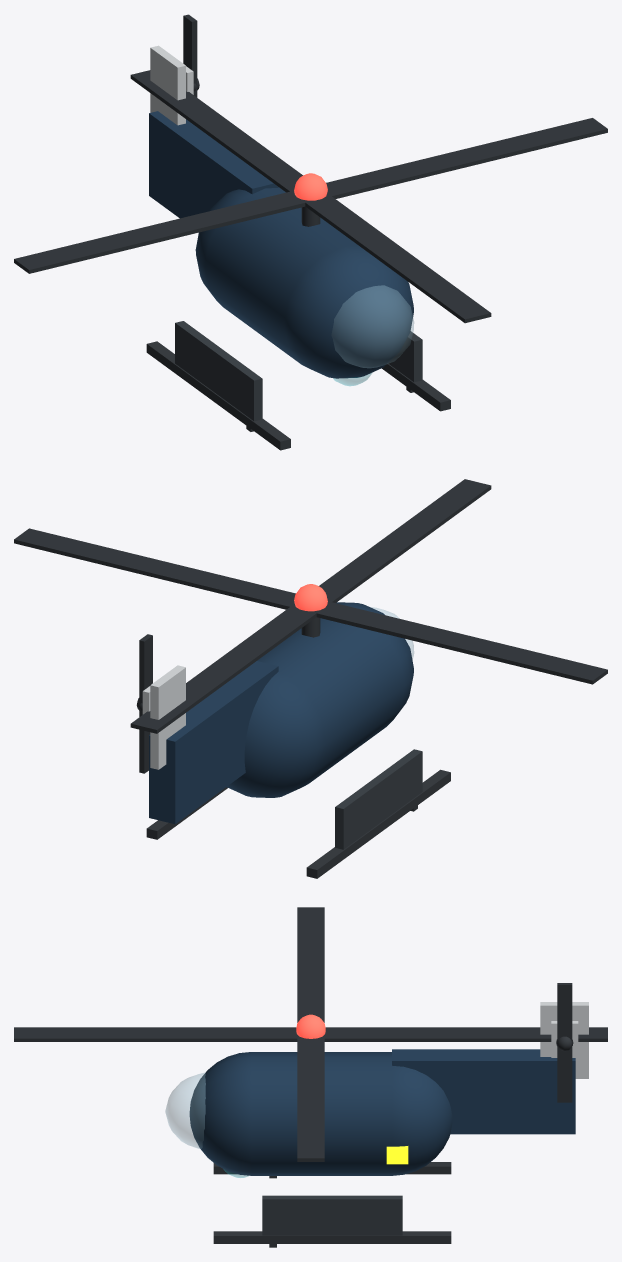
Rendered from news-helicopter.glb.
The picture shows the model from 3 angles, top to bottom: view 1: azimuth 30°, elevation 25°; view 2: azimuth 150°, elevation 25°; view 3: azimuth 270°, elevation 25°; orthographic projection. The views are drawn at different scales.
Parts seen in each view (by area): view 1: news-helicopter; view 2: news-helicopter; view 3: news-helicopter.
Part boxes in pixels (x1,y1,x2,y2): news-helicopter: [14, 14, 607, 450]; news-helicopter: [14, 479, 607, 878]; news-helicopter: [14, 907, 607, 1247].
Size of the model in its own units: 11 by 4.84 by 11.
